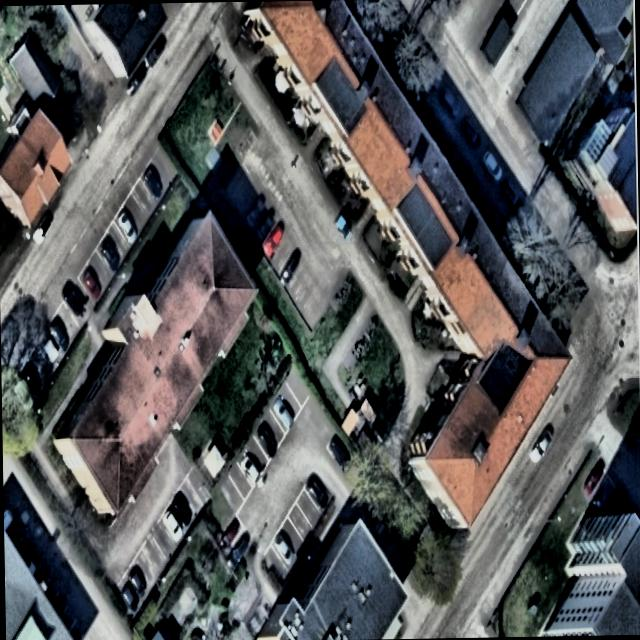roof_pv: (396, 180, 456, 267), (315, 55, 369, 138)
